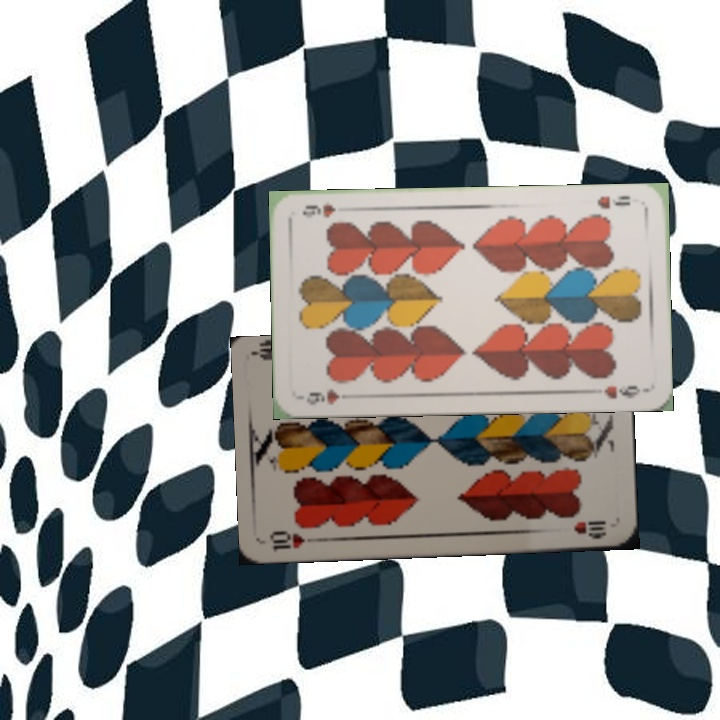H10: (265, 527, 322, 553)
H9: (302, 384, 342, 408), (593, 191, 633, 212)
